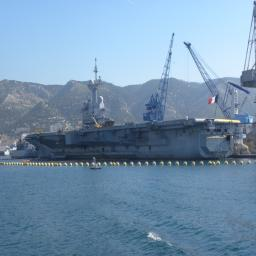Portanaves: (22, 56, 246, 164)
